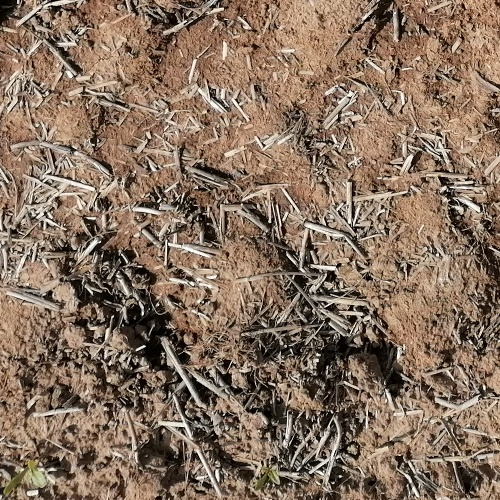beet: (0, 460, 48, 500), (254, 465, 280, 490)
